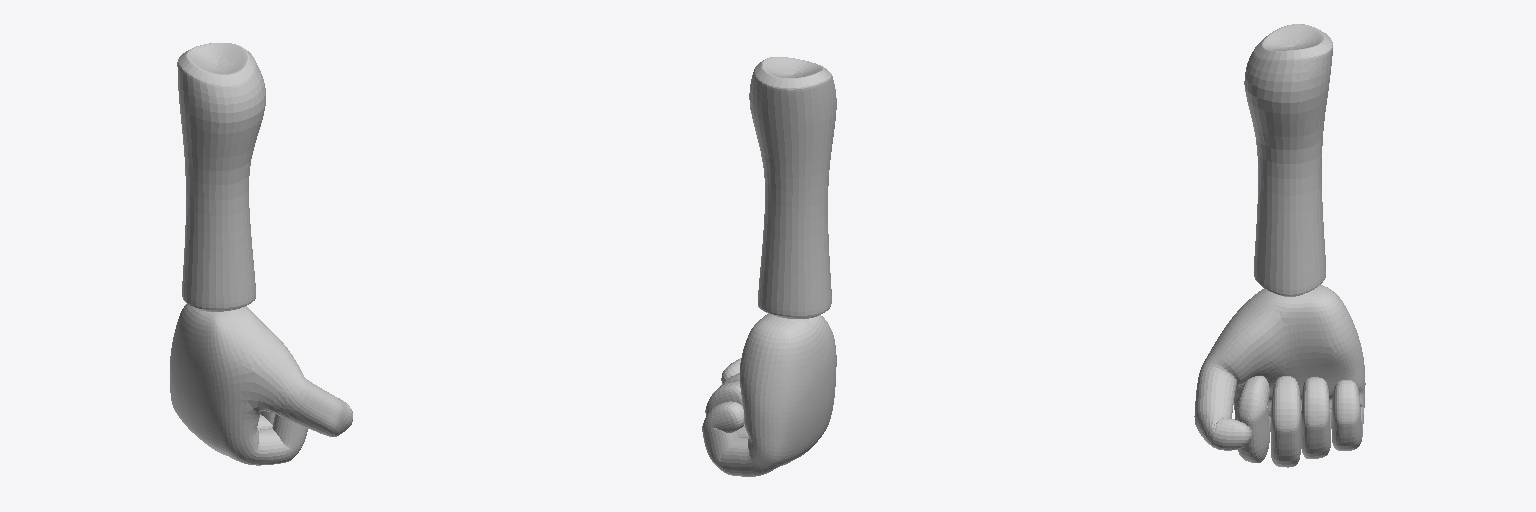
Rendered from ArmRHand.obj.
The picture shows the model from 3 angles: view 1: azimuth 30°, elevation 25°; view 2: azimuth 150°, elevation 25°; view 3: azimuth 270°, elevation 25°; orthographic projection.
Parts seen in each view (by area): view 1: GEO-Body.002_Body.001; view 2: GEO-Body.002_Body.001; view 3: GEO-Body.002_Body.001.
Part boxes in pixels (x1,y1,x2,y2): GEO-Body.002_Body.001: (170,43,352,465); GEO-Body.002_Body.001: (702,57,836,476); GEO-Body.002_Body.001: (1194,24,1365,467).
Bounding box in the file's own units: 0.1174 × 0.3422 × 0.1301.